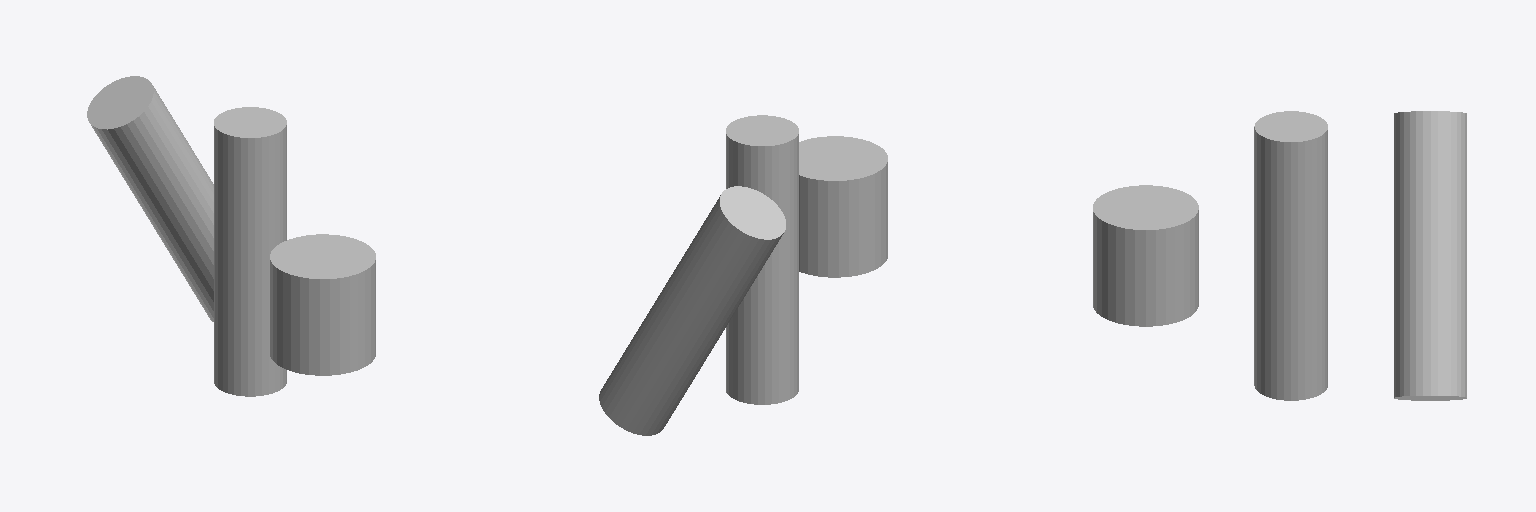
The picture shows the model from 3 angles: view 1: azimuth 30°, elevation 25°; view 2: azimuth 150°, elevation 25°; view 3: azimuth 270°, elevation 25°; orthographic projection.
Parts seen in each view (by area): view 1: Cylinder.001, Cylinder.002, Cylinder; view 2: Cylinder.002, Cylinder.001, Cylinder; view 3: Cylinder.002, Cylinder.001, Cylinder.
Boxes of the visible parts, <box> form: Cylinder.001: <box>214,107,286,396</box>; Cylinder.002: <box>87,76,213,321</box>; Cylinder: <box>270,234,375,375</box>; Cylinder.002: <box>599,186,785,435</box>; Cylinder.001: <box>726,115,798,404</box>; Cylinder: <box>799,136,887,277</box>; Cylinder.002: <box>1394,111,1466,400</box>; Cylinder.001: <box>1254,111,1327,400</box>; Cylinder: <box>1093,185,1198,326</box>.
Size of the model in its own units: 3.82 by 5.35 by 7.04.